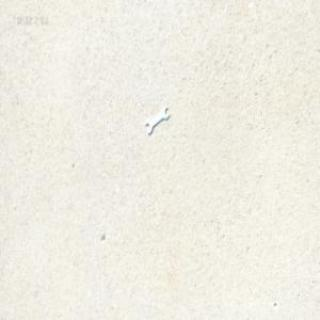Wrenchtrack_idkeyframe: (144, 105, 168, 135)
